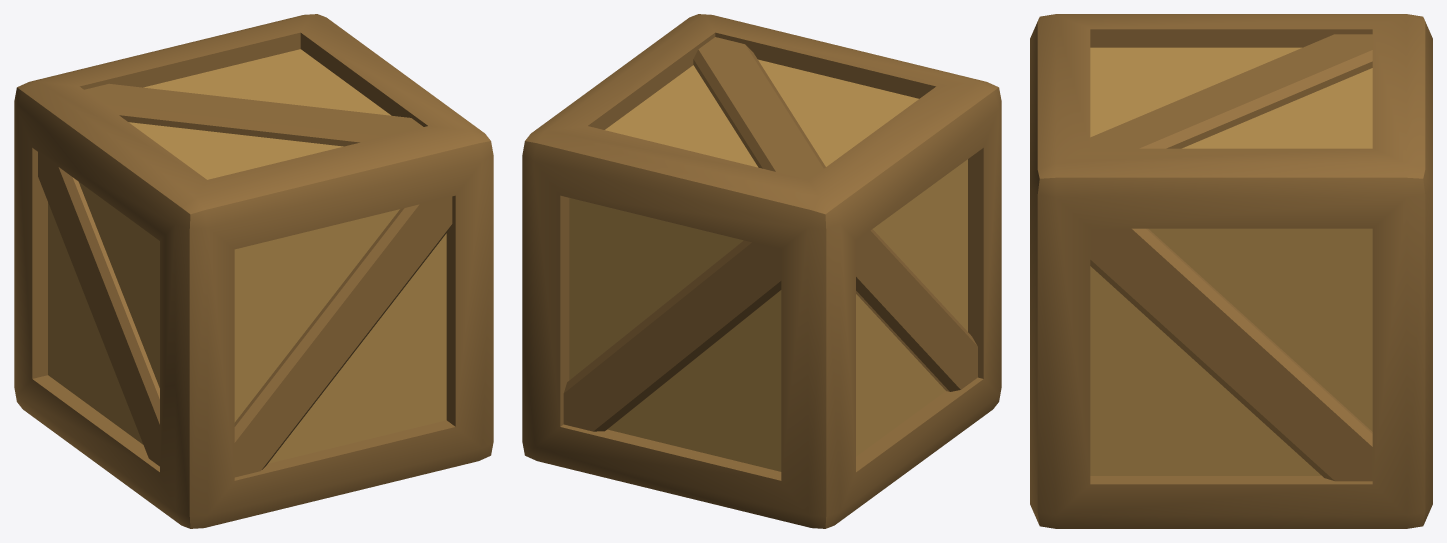
The model's file is cargoCrate-DyLoB-1z.glb.
The picture shows the model from 3 angles, left to right: view 1: azimuth 30°, elevation 25°; view 2: azimuth 150°, elevation 25°; view 3: azimuth 270°, elevation 25°; orthographic projection. The views are drawn at different scales.
Visible parts, largest first — view 1: Crate; view 2: Crate; view 3: Crate.
Part boxes in pixels (x1,y1,x2,y2): Crate: [14, 14, 493, 528]; Crate: [522, 14, 1001, 528]; Crate: [1030, 14, 1432, 528].
Size of the model in its own units: 0.7898 by 0.7898 by 0.7898.
